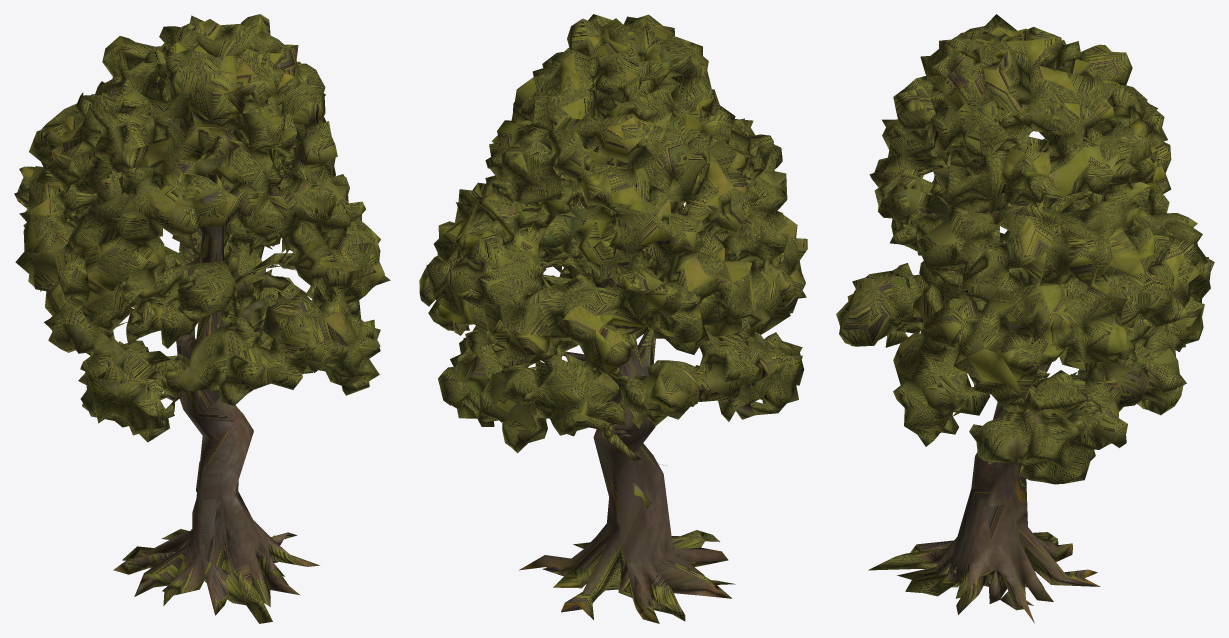
File: A_towering_ancient_oa.glb
3 views of the same model, side by side, from view 1: azimuth 30°, elevation 25°; view 2: azimuth 150°, elevation 25°; view 3: azimuth 270°, elevation 25° (orthographic). The views are drawn at different scales.
Parts seen in each view (by area): view 1: A_towering_ancient_oa; view 2: A_towering_ancient_oa; view 3: A_towering_ancient_oa.
Boxes of the visible parts, bbox=[...] form: A_towering_ancient_oa: bbox=[14, 14, 390, 623]; A_towering_ancient_oa: bbox=[419, 14, 807, 623]; A_towering_ancient_oa: bbox=[836, 14, 1214, 623].
Bounding box in the file's own units: 1.23 × 1.9 × 1.18.
1 material, 1 textured.
